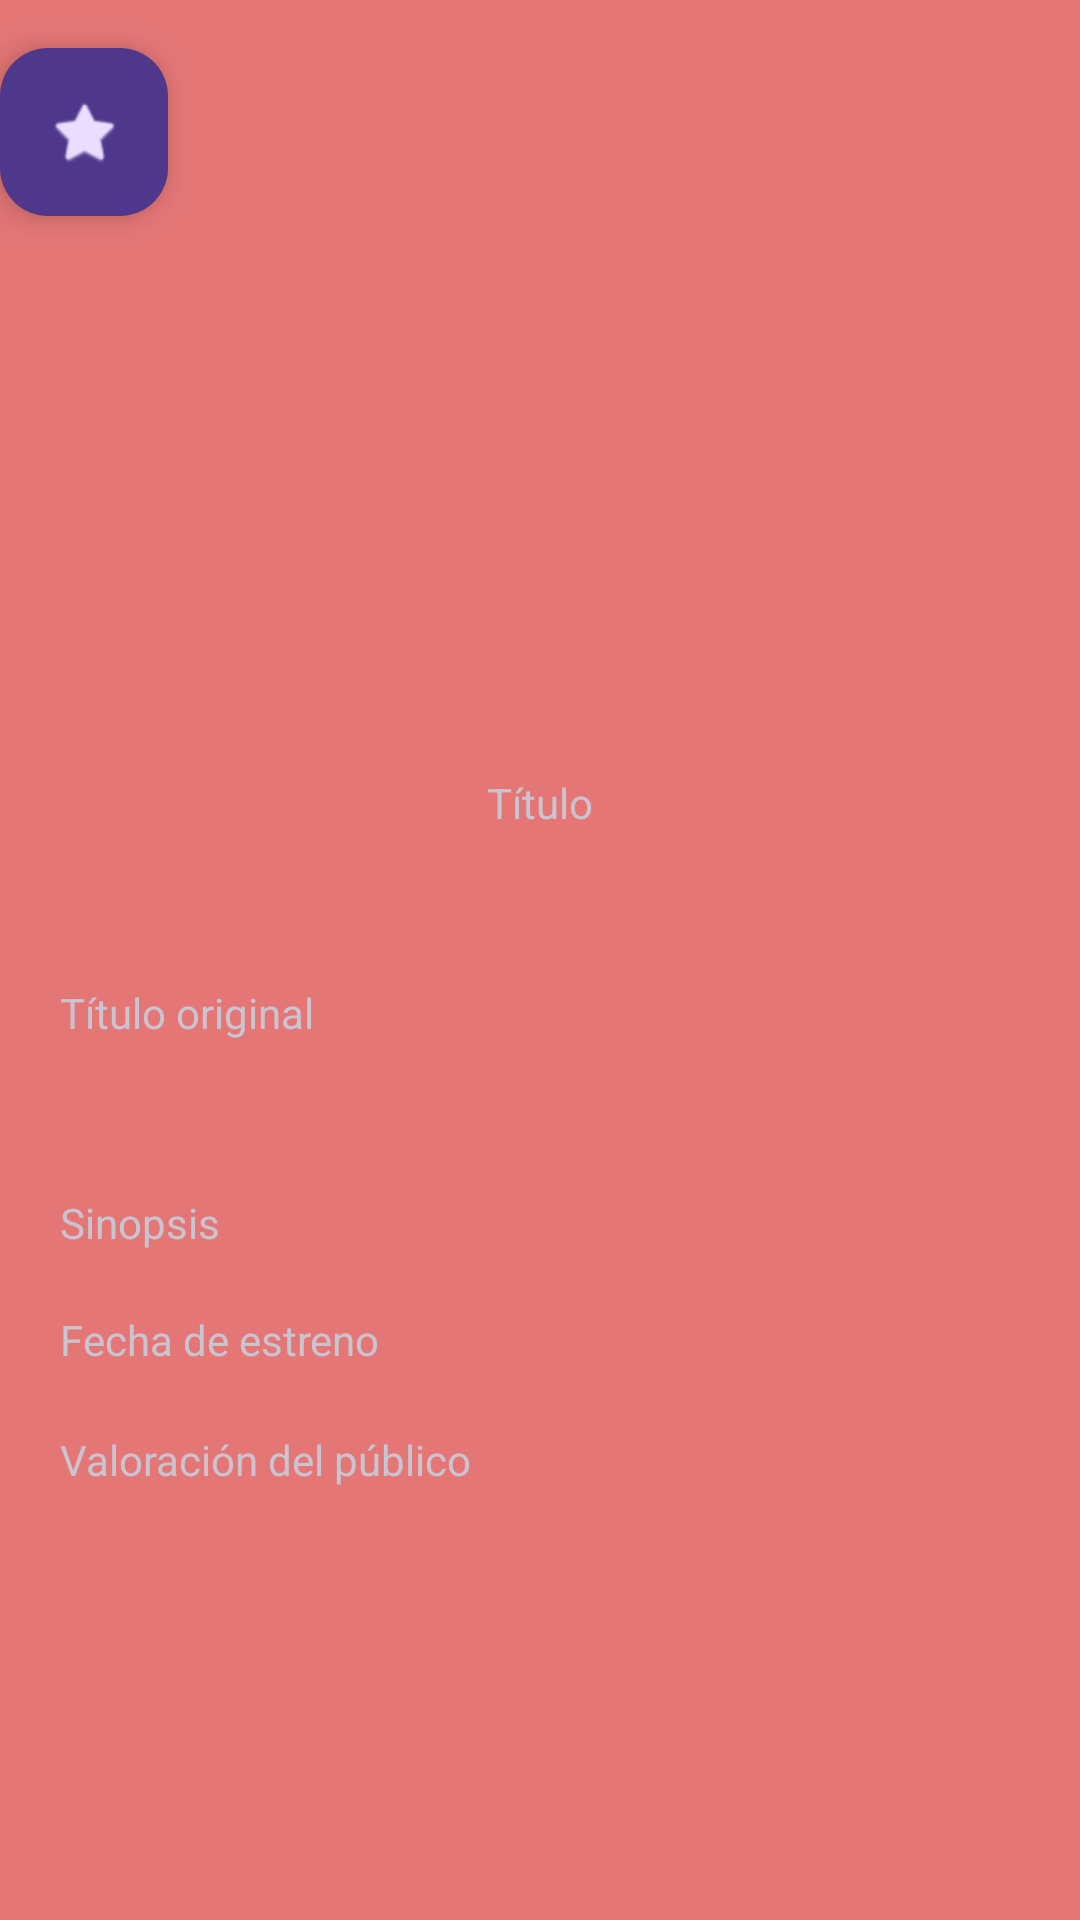

Named icons in this screenshot (1080px x 1920px) and their centers, (x=x, y=y):
Favoritos: (x=84, y=132)
